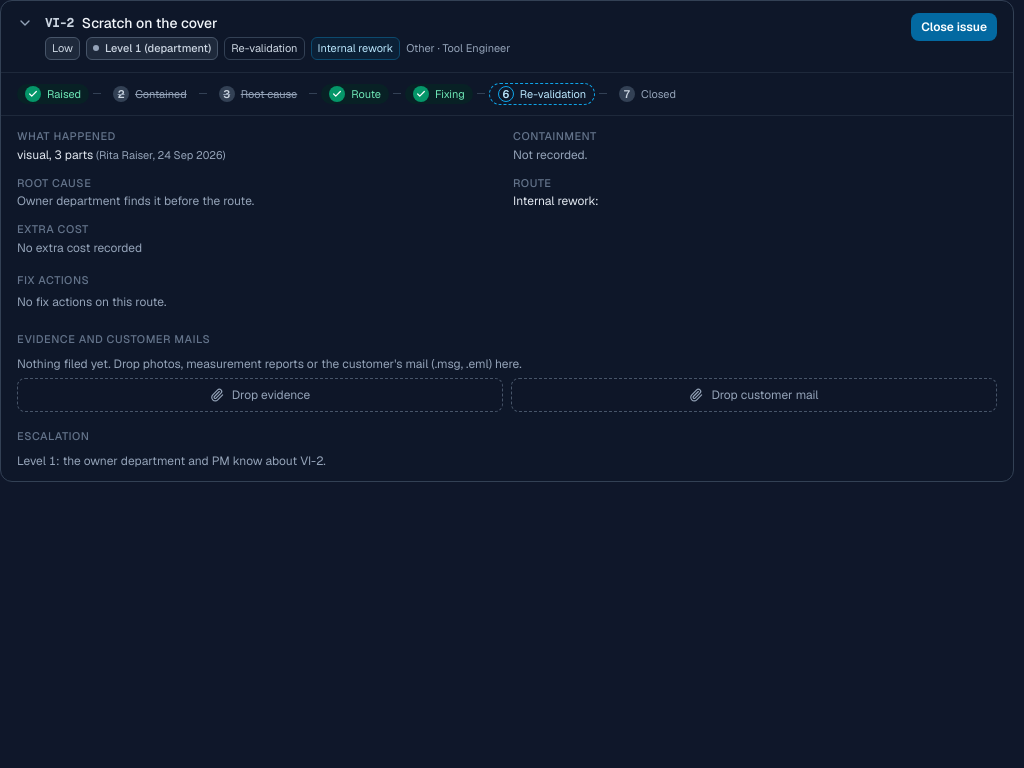
Test: A5-01 the closure note of a HARD #3 issue is a reference › "ok" keeps Close disabled, a report number enables it
The width and height of the screenshot is (1024, 768).
Click the button with test id "issue-primary-11".
click(954, 27)  # box [911, 13, 997, 41]
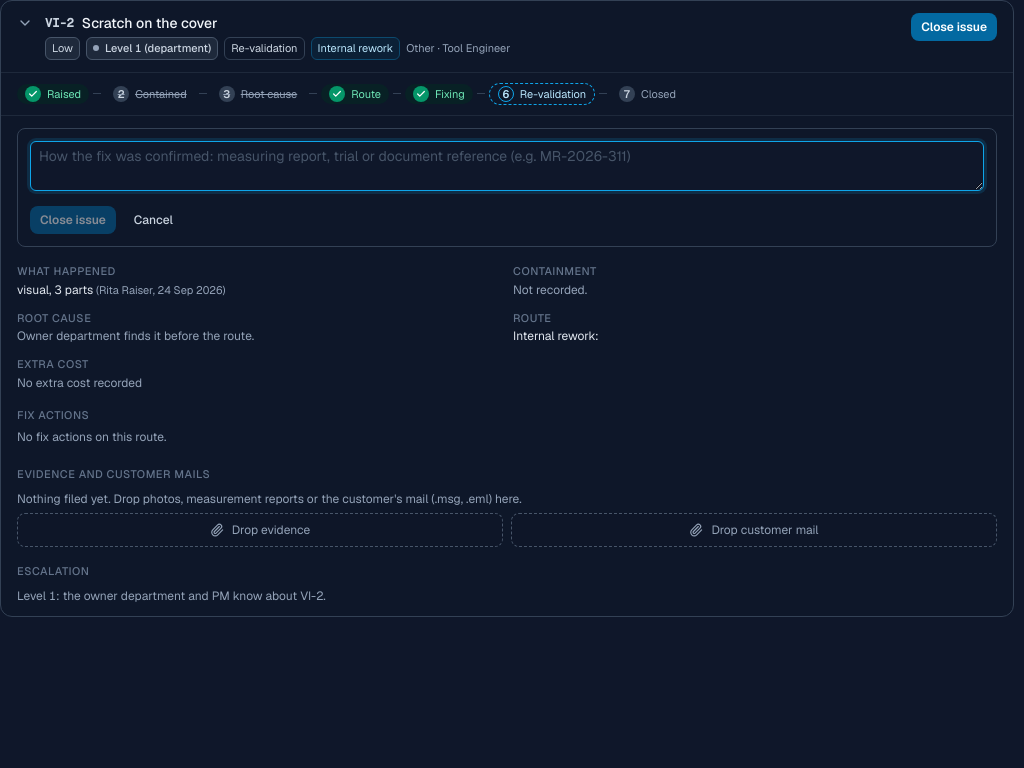
Replace the text in the text box with test id "issue-text-close-11" with "ok" at (507, 166), box [30, 141, 984, 191]
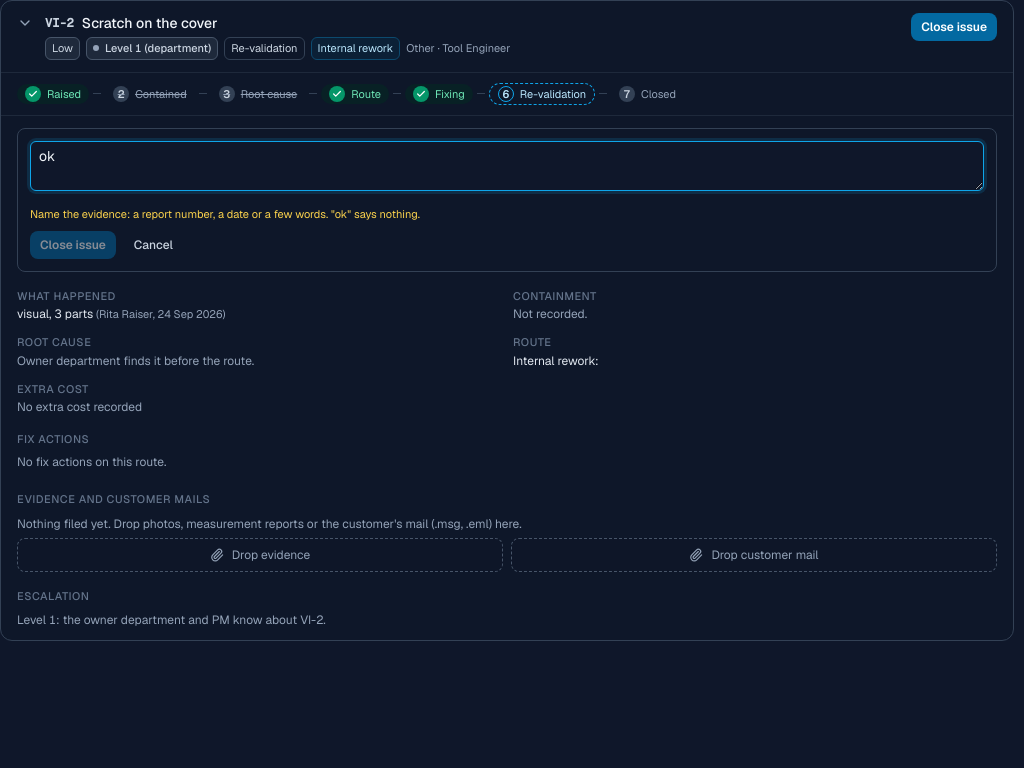
Expected: the button with test id "issue-text-submit-close-11" is disabled, [30, 230, 116, 258]
Replace the text in the text box with test id "issue-text-close-11" with "approved" at (507, 166), box [30, 141, 984, 191]
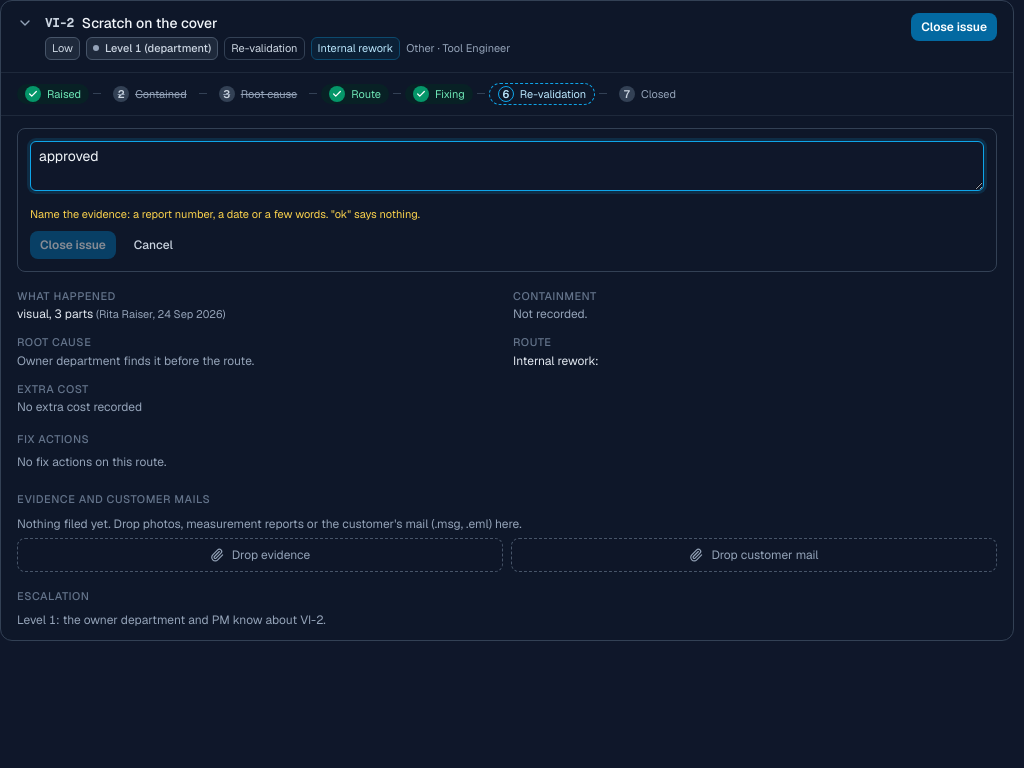
Expected: the button with test id "issue-text-submit-close-11" is disabled, [30, 230, 116, 258]
Expected: the text with test id "issue-text-ref-close-11" is shown, [30, 207, 420, 221]
Replace the text in the text box with test id "issue-text-close-11" with "CMM report MR-2026-311" at (507, 166), box [30, 141, 984, 191]
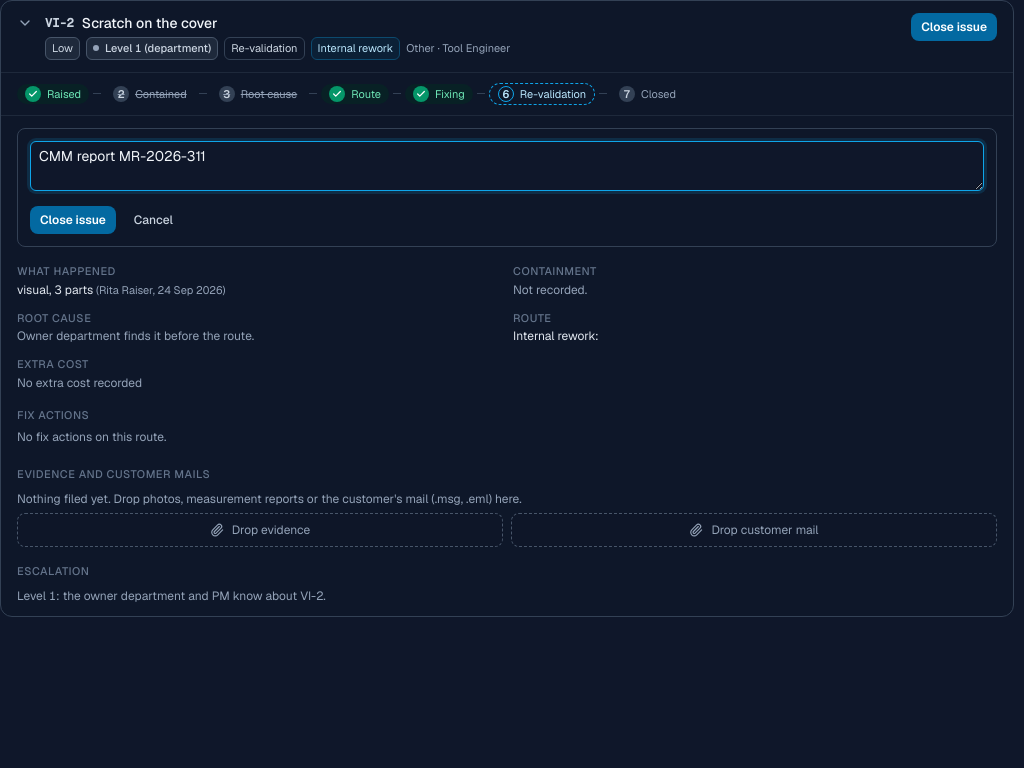
Expected: the button with test id "issue-text-submit-close-11" is enabled, [30, 206, 116, 234]
